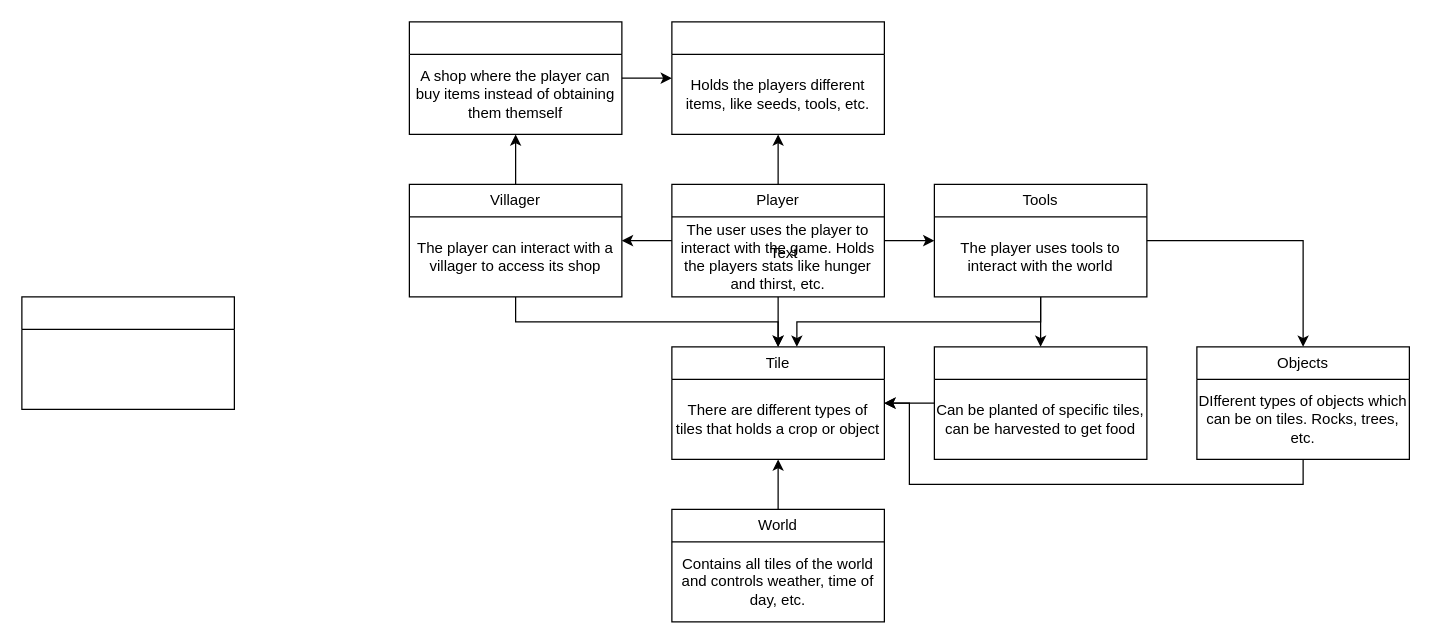
Some shapes in this 1431 by 644 pixel diagram are drawn without their labels. Each missing label, with the box of its shape:
Crops: (933, 346, 1147, 459)
Inventory: (671, 21, 884, 134)
Shops: (408, 21, 622, 134)
